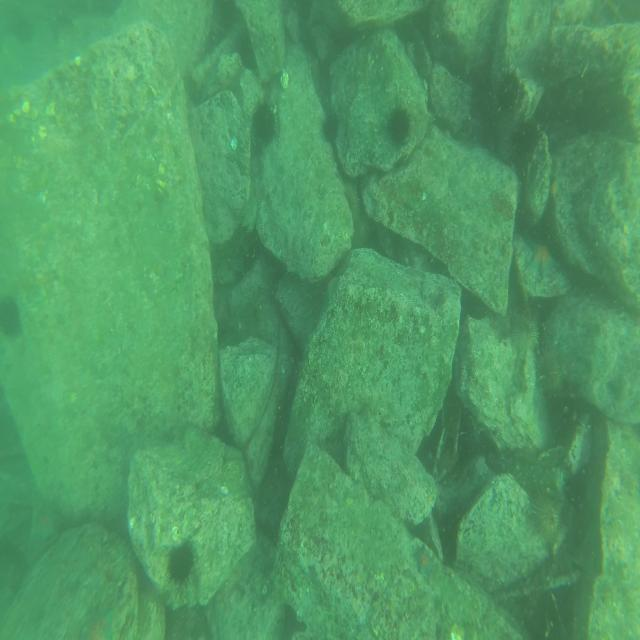echinus: (529, 492, 563, 539), (168, 542, 196, 585), (250, 104, 278, 146), (497, 68, 521, 108), (387, 106, 409, 148), (1, 299, 22, 338), (322, 114, 341, 146)
starfish: (524, 235, 557, 278)
